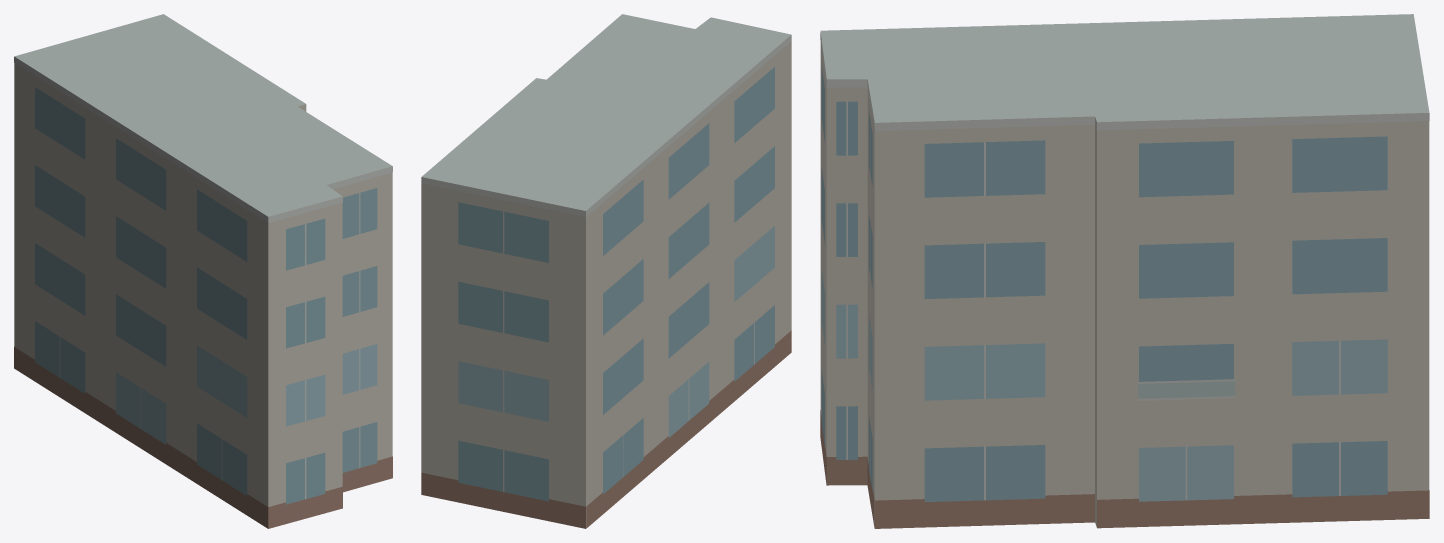
The model's file is survey-upis-32592110.glb.
3 views of the same model, side by side, from view 1: azimuth 30°, elevation 25°; view 2: azimuth 150°, elevation 25°; view 3: azimuth 270°, elevation 25° (orthographic). The views are drawn at different scales.
Parts seen in each view (by area): view 1: survey-upis-32592110.tmp; view 2: survey-upis-32592110.tmp; view 3: survey-upis-32592110.tmp.
Part boxes in pixels (box(x1,y1,x2,y2)): survey-upis-32592110.tmp: box(14, 14, 392, 528); survey-upis-32592110.tmp: box(421, 14, 791, 528); survey-upis-32592110.tmp: box(820, 14, 1429, 528).
Bounding box in the file's own units: 7.03 × 12.2 × 16.6.
